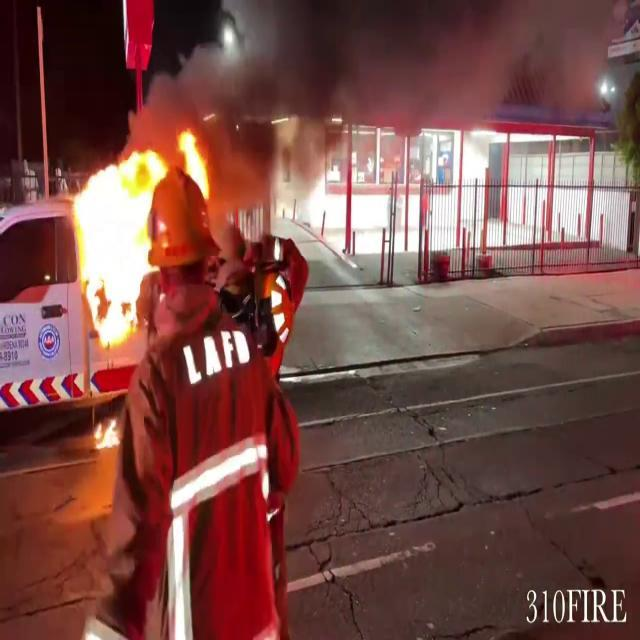Fire: (66, 122, 216, 350), (90, 410, 122, 454)
Smoke: (141, 0, 571, 148)
